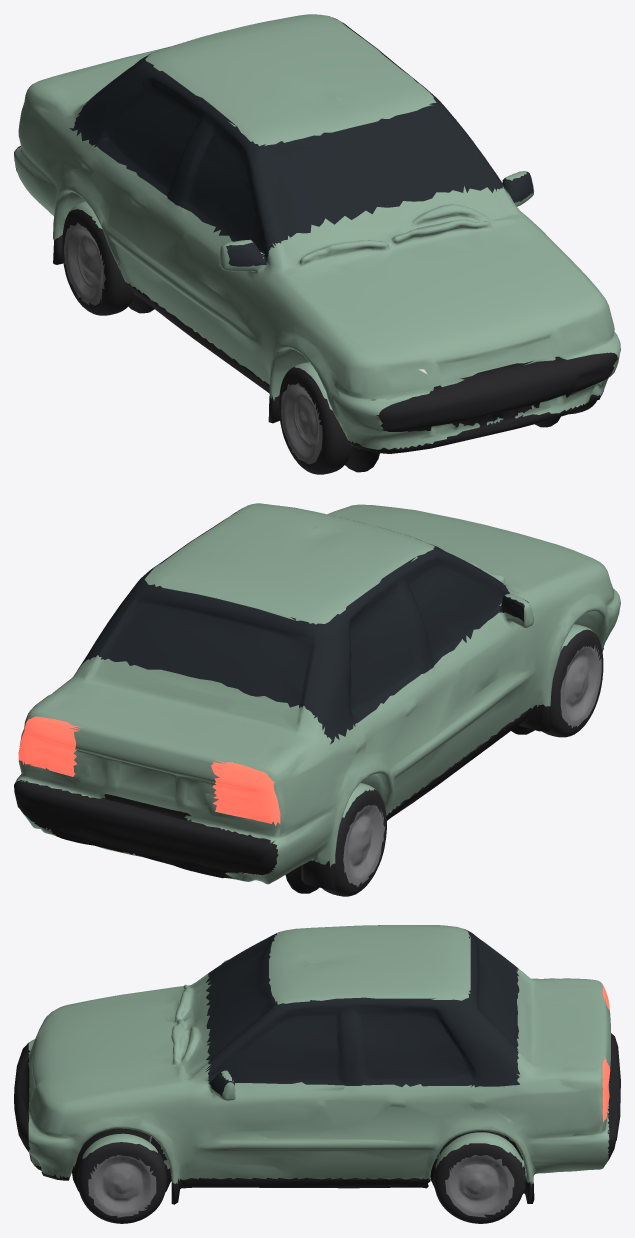
Rendered from StarterCar.fbx.
3 views of the same model, one above another, from view 1: azimuth 30°, elevation 25°; view 2: azimuth 150°, elevation 25°; view 3: azimuth 270°, elevation 25° (orthographic). The views are drawn at different scales.
Parts seen in each view (by area): view 1: Body_Paint, Glass, Body_Trim, Wheel_FL_tyre, Wheel_RL_tyre, Wheel_FL_rim, Wheel_RL_rim; view 2: Body_Paint, Glass, Body_Trim, LightsRear, Wheel_FL_rim, Wheel_RL_rim, Wheel_FL_tyre, Wheel_RL_tyre; view 3: Body_Paint, Glass, Body_Trim, Wheel_RR_rim, Wheel_FR_rim, Wheel_FR_tyre, Wheel_RR_tyre, Well_FR, LightsRear.
Part boxes in pixels (left/top/right/bottom): Body_Paint: left=14, top=14, right=620, bottom=449; Glass: left=69, top=16, right=533, bottom=266; Body_Trim: left=14, top=145, right=617, bottom=453; Wheel_FL_tyre: left=279, top=366, right=352, bottom=474; Wheel_RL_tyre: left=58, top=209, right=134, bottom=315; Wheel_FL_rim: left=281, top=383, right=322, bottom=464; Wheel_RL_rim: left=63, top=222, right=105, bottom=305; Body_Paint: left=15, top=503, right=620, bottom=884; Glass: left=78, top=506, right=528, bottom=744; Body_Trim: left=14, top=589, right=616, bottom=890; LightsRear: left=18, top=716, right=280, bottom=825; Wheel_FL_rim: left=560, top=645, right=601, bottom=727; Wheel_RL_rim: left=343, top=805, right=385, bottom=886; Wheel_FL_tyre: left=542, top=629, right=603, bottom=737; Wheel_RL_tyre: left=322, top=789, right=386, bottom=896; Body_Paint: left=28, top=925, right=610, bottom=1185; Glass: left=206, top=925, right=519, bottom=1096; Body_Trim: left=14, top=1033, right=620, bottom=1204; Wheel_RR_rim: left=445, top=1155, right=514, bottom=1217; Wheel_FR_rim: left=88, top=1155, right=156, bottom=1217; Wheel_FR_tyre: left=77, top=1137, right=167, bottom=1223; Wheel_RR_tyre: left=433, top=1135, right=526, bottom=1223; Well_FR: left=72, top=1128, right=170, bottom=1191; LightsRear: left=602, top=984, right=610, bottom=1122.
Size of the model in its own units: 747 by 611 by 1530.
